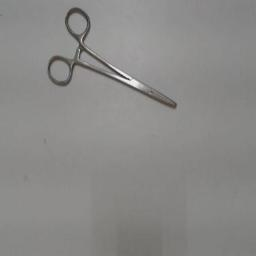Mayo Needle Holder: (42, 2, 182, 118)
